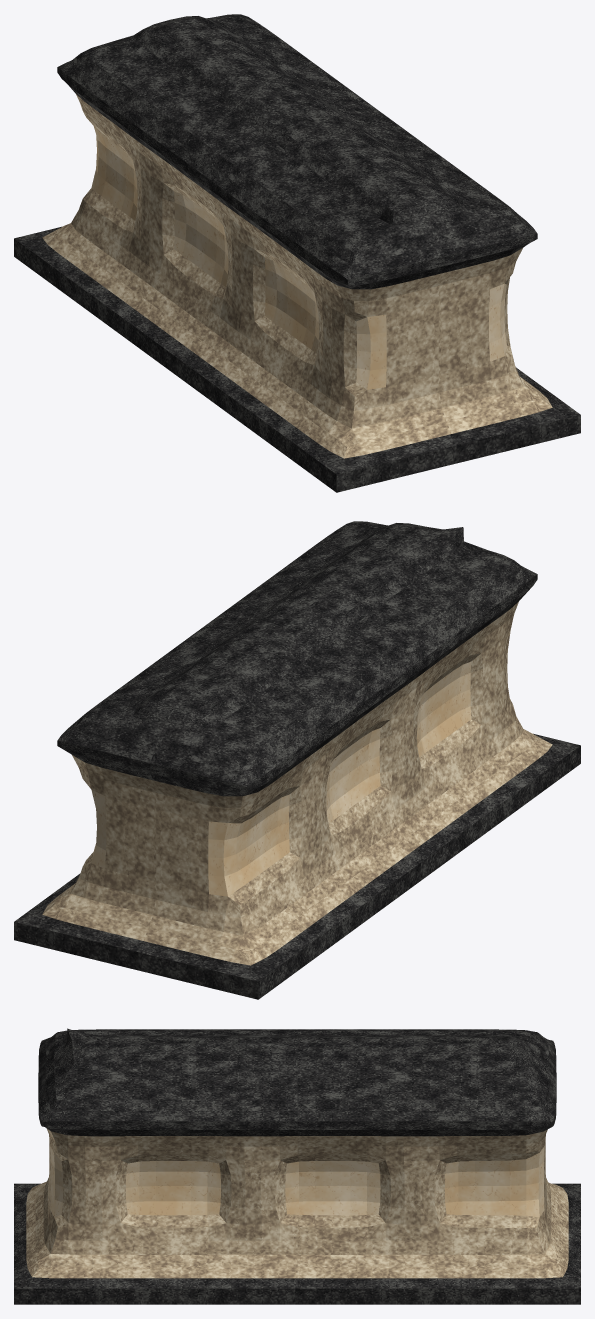
The model's file is sarcophagus.glb.
The picture shows the model from 3 angles, top to bottom: view 1: azimuth 30°, elevation 25°; view 2: azimuth 150°, elevation 25°; view 3: azimuth 270°, elevation 25°; orthographic projection. The views are drawn at different scales.
Parts seen in each view (by area): view 1: crypt_sarcophagus; view 2: crypt_sarcophagus; view 3: crypt_sarcophagus.
Boxes of the visible parts, <box> form: crypt_sarcophagus: <box>14,14,580,492</box>; crypt_sarcophagus: <box>14,521,580,999</box>; crypt_sarcophagus: <box>14,1028,580,1304</box>.
Bounding box in the file's own units: 0.875 × 0.8125 × 2.
Materials: 1 (1 with a texture image).
